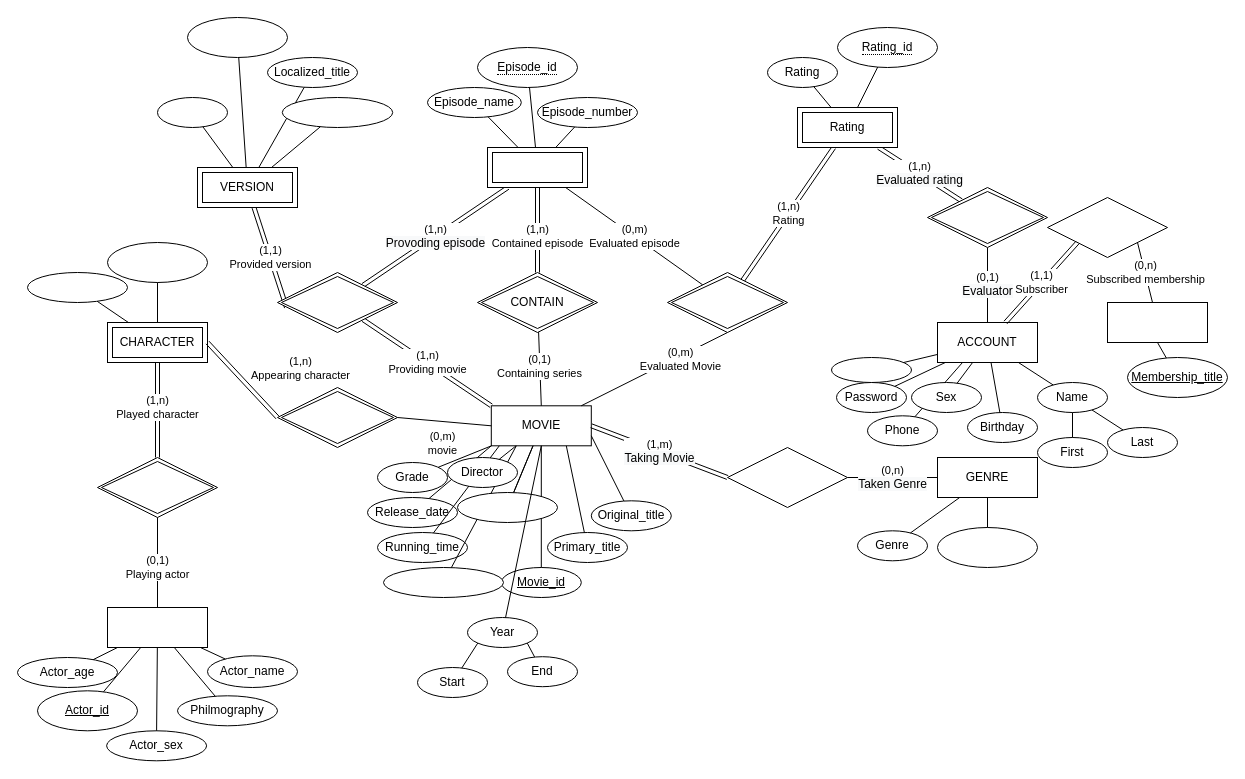
Image size: 1245x779. Some labels were removed from this diagram. Each missing label, with the box of its shape:
ACTOR: (106, 606, 208, 648)
APPEAR IN: (276, 386, 398, 448)
Character_id: (106, 242, 208, 282)
Character_name: (26, 272, 128, 302)
Email_add: (830, 356, 912, 382)
EPISODE: (486, 146, 588, 188)
EVALUATE: (926, 186, 1048, 248)
EVALUATED AS: (666, 272, 788, 332)
Genre_id: (936, 526, 1038, 568)
Local_language: (281, 96, 393, 128)
Location: (156, 96, 228, 128)
MEMBERSHIP: (1106, 302, 1208, 342)
PLAY: (96, 456, 218, 518)
Proiduction_country: (382, 566, 504, 598)
PROVIDE: (276, 272, 398, 332)
Season_number: (456, 492, 558, 522)
SUBSCRIBE: (1046, 196, 1168, 258)
TAKE: (726, 446, 848, 508)
Version_id: (186, 16, 288, 58)
